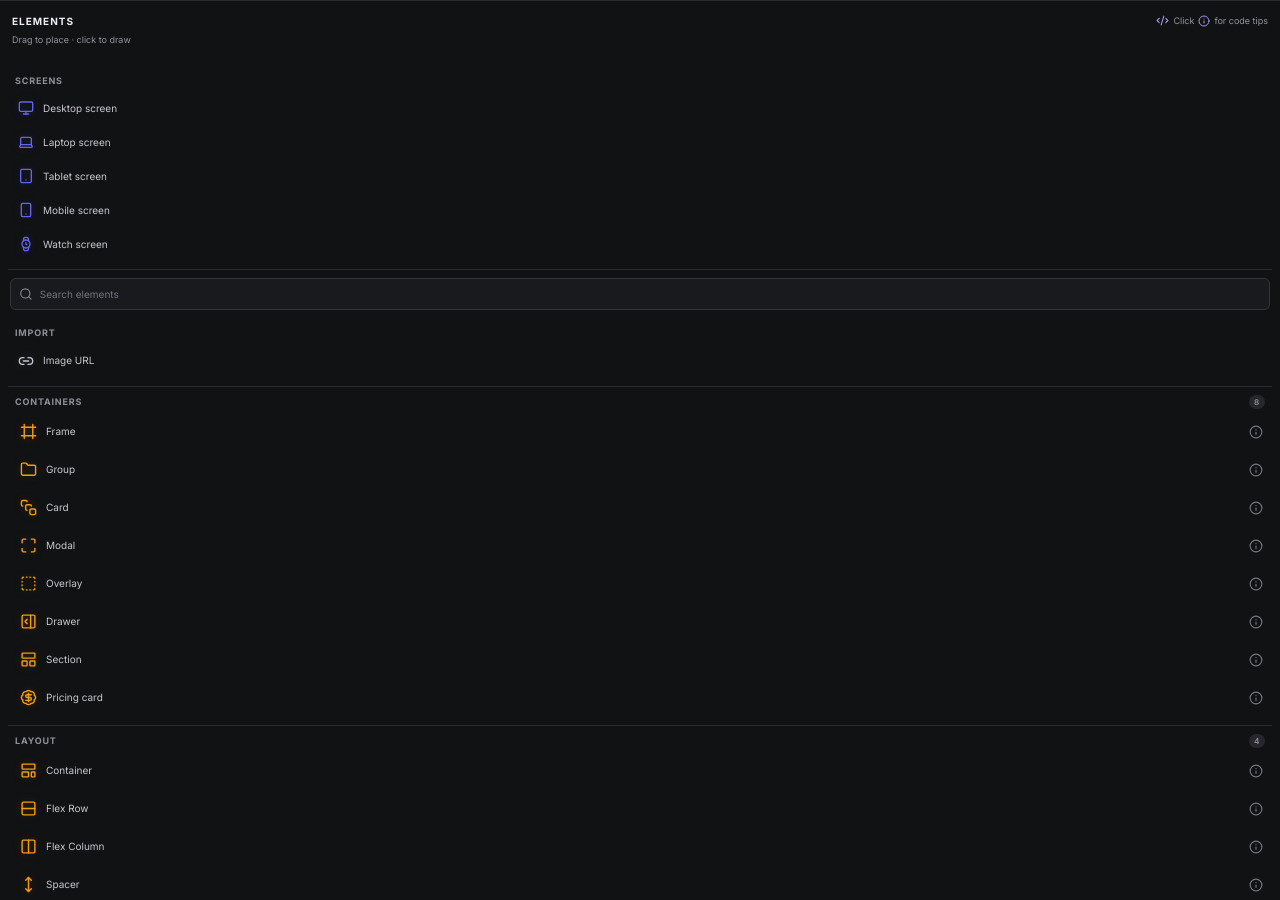
it: ElementLibrary imported code shortcuts › searches the catalog by element names and exposes the audio element
The image size is (1280, 900).
Step 1. Type "date" into the search field labelled "Search elements" → (650, 294), box [40, 286, 1261, 302]
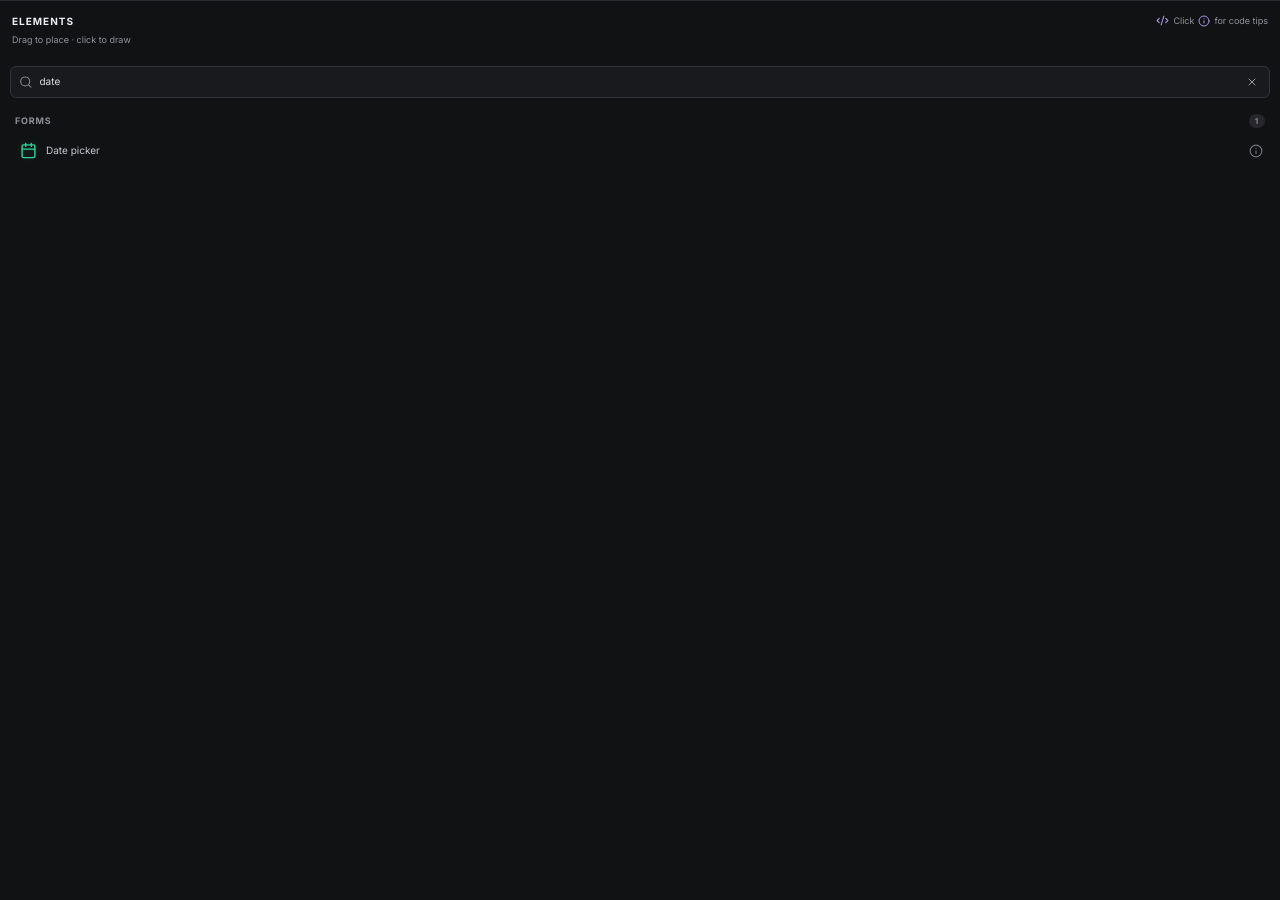
Now the button with aria-label "Add Date picker" is shown, box [12, 134, 1241, 166]
Step 2. Replace the text in the search field named "Search elements" with "audio" → (638, 82), box [40, 74, 1236, 89]
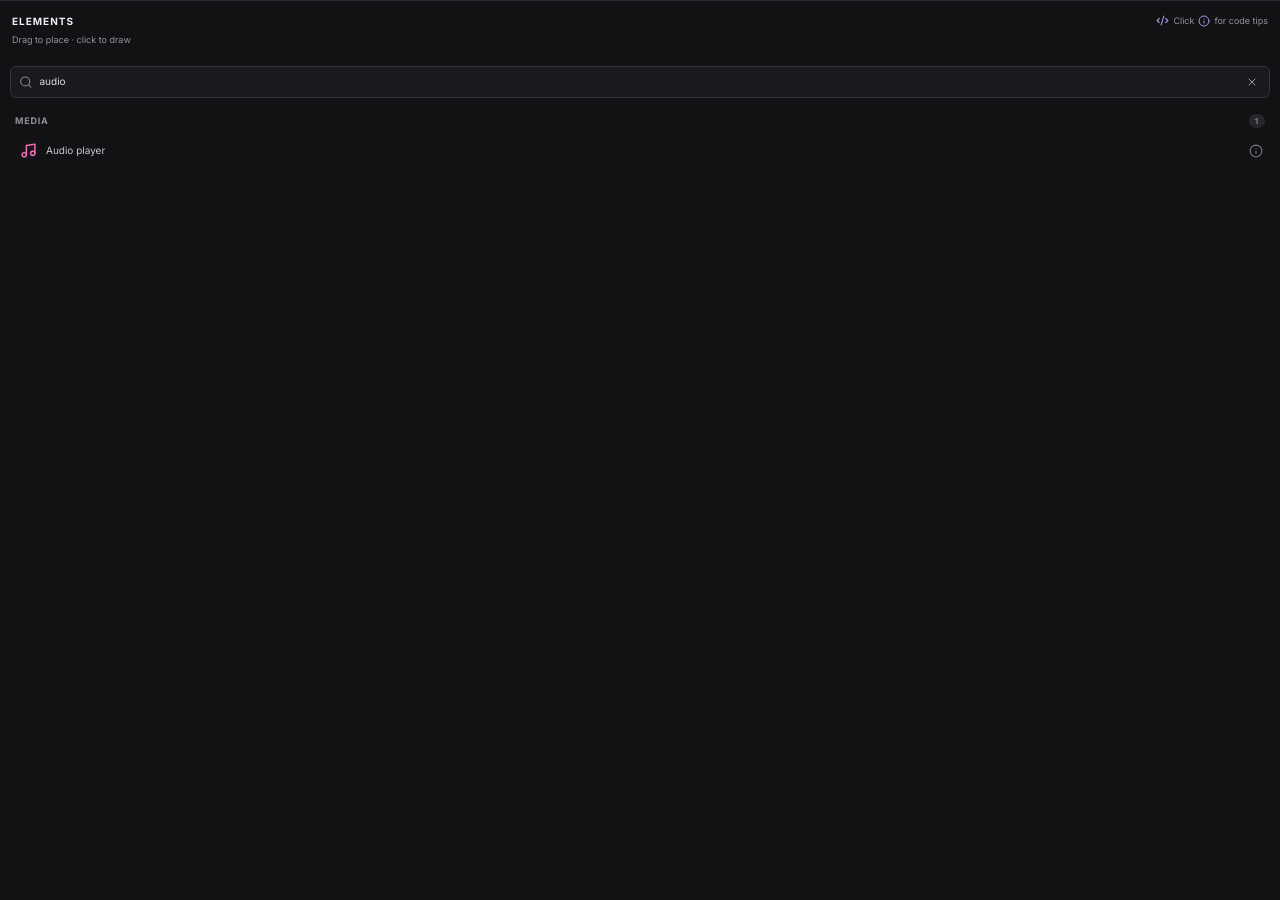
Now the button with aria-label "Add Audio player" is shown, box [12, 134, 1241, 166]
